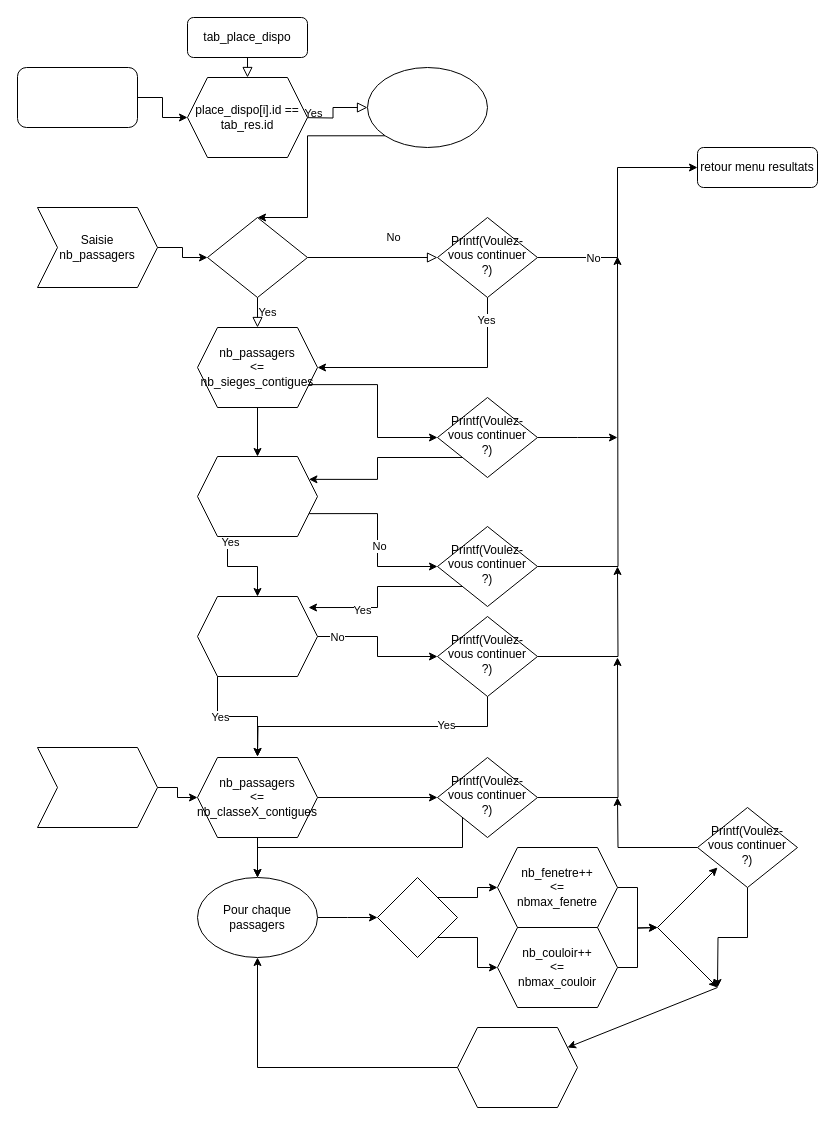
Image size: 835x1125. Some labels were removed from this diagram. The shapes that lost their labels are listed below. From the top down, each one's centre as x and y in pixels, then its label:
At (x=77, y=97): "tab_res".
At (x=427, y=107): "nb_places_dispo".
At (x=257, y=257): "nb_passagers <= nb_place_dispo _same_wagon".
At (x=257, y=496): "nb_passagers <= nb_classe1".
At (x=257, y=636): "nb_passagers <= nb_classe2".
At (x=97, y=787): "Saisie classe X".
At (x=417, y=917): "Fenetre ou couloir ?".
At (x=517, y=1067): "passagers++".
